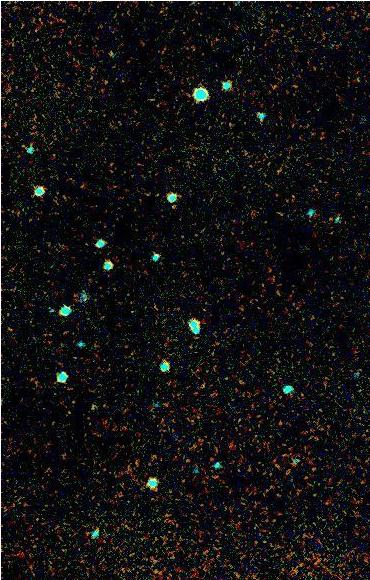star: (159, 194, 189, 224)
